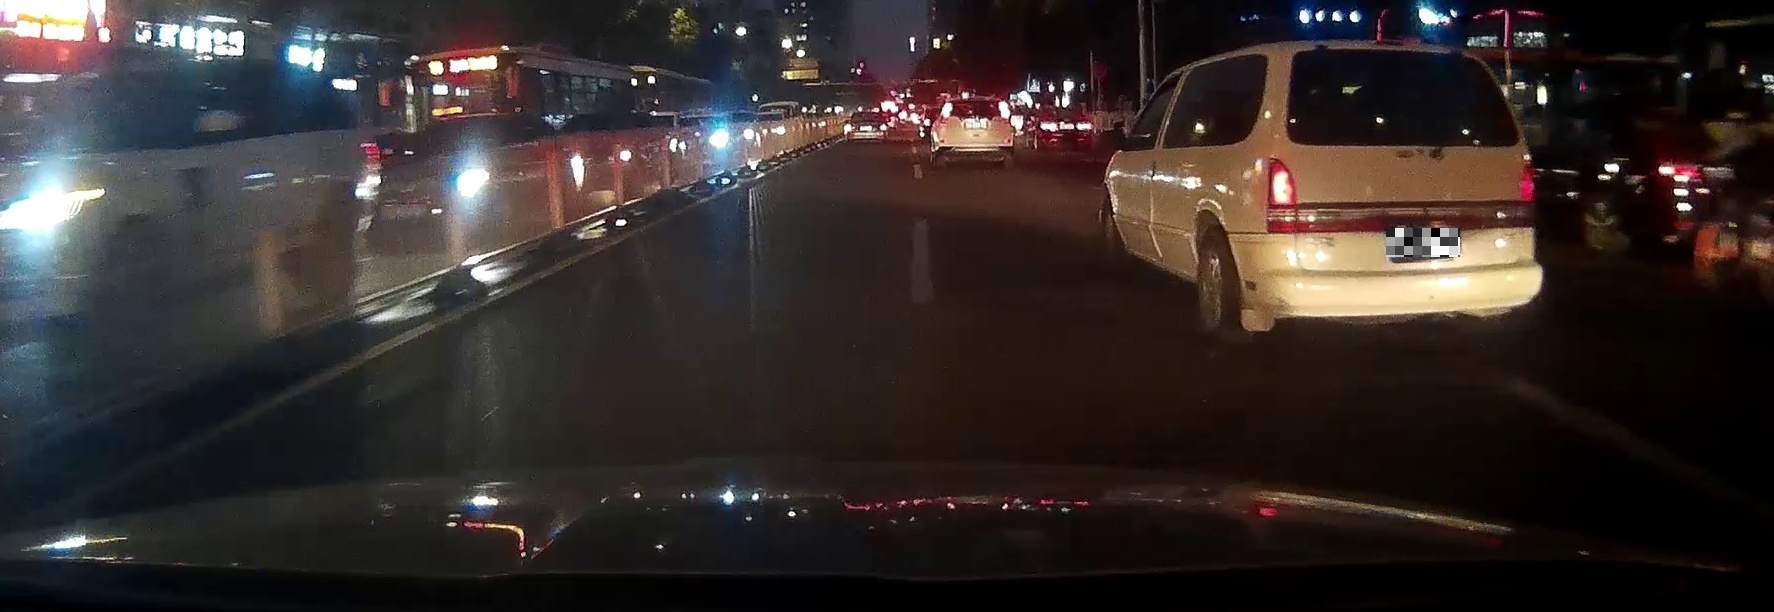L_light: (1268, 157, 1297, 206), (941, 103, 953, 118)
R_light: (1518, 164, 1536, 201), (997, 101, 1010, 119)
T_light: (1372, 50, 1403, 58), (967, 100, 980, 104)
night-left: (1264, 42, 1541, 351)
night-no: (937, 98, 1014, 169)
plate_1: (1386, 229, 1459, 257)
